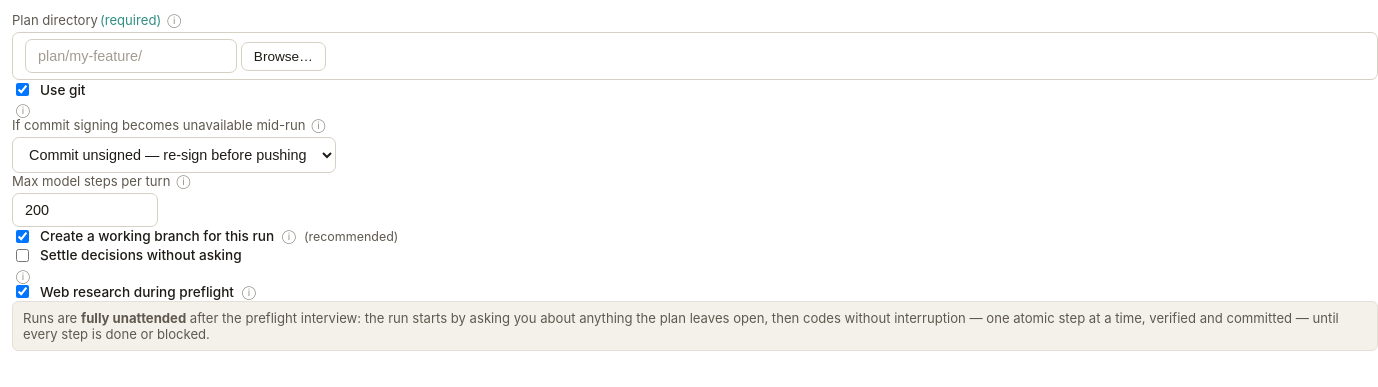
Test case: autonomous-coding Editor › explains itself when no working dir is set yet
Click the button "Browse…" at (283, 56), box [241, 42, 326, 71]
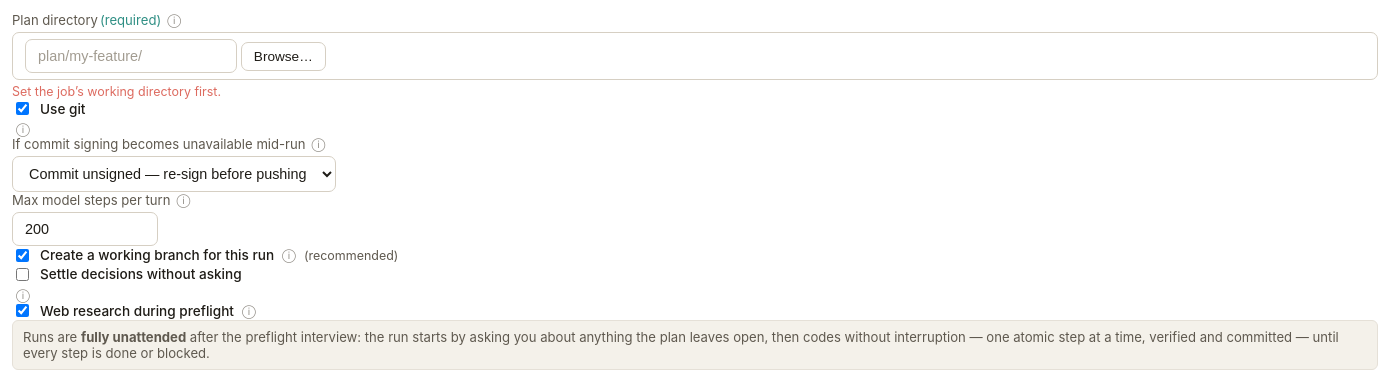
expect the text "Set the job’s working directory first." is shown: met, box [12, 84, 221, 99]
